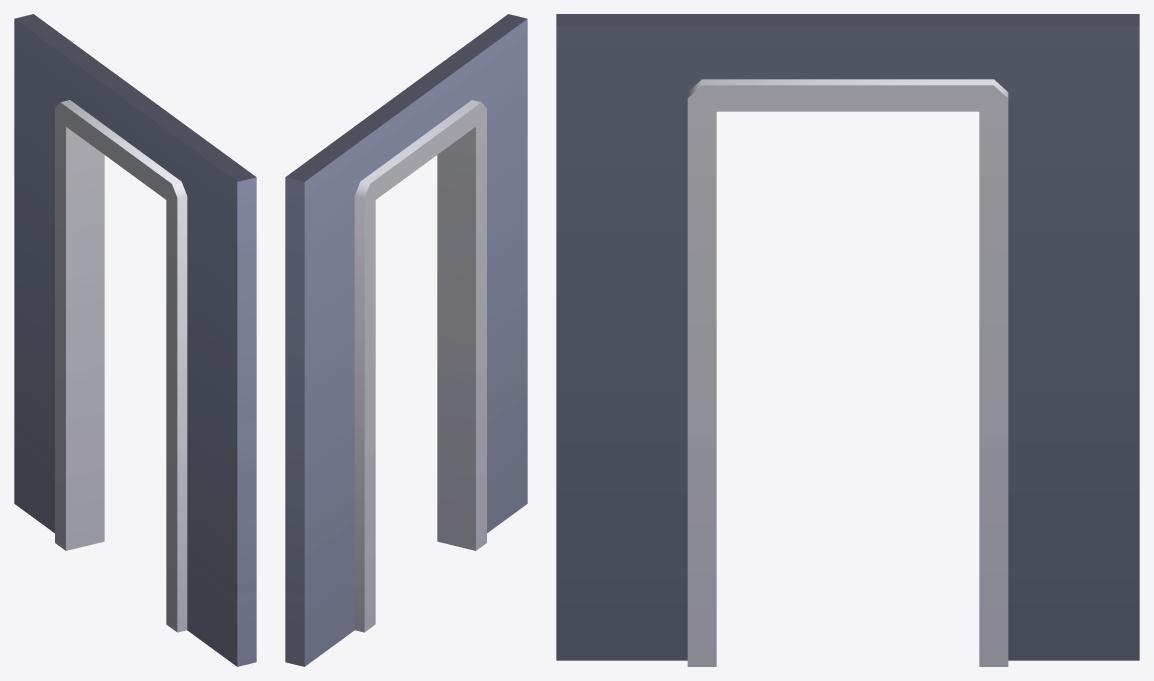
The model's file is wall-doorway-square.optimized.glb.
3 renders of one model, left to right at view 1: azimuth 30°, elevation 25°; view 2: azimuth 150°, elevation 25°; view 3: azimuth 270°, elevation 25°, orthographic. The views are drawn at different scales.
Parts seen in each view (by area): view 1: wall-doorway-square; view 2: wall-doorway-square; view 3: wall-doorway-square.
Boxes of the visible parts, x1,y1,x2,y2 form: wall-doorway-square: [14, 14, 256, 666]; wall-doorway-square: [285, 14, 527, 666]; wall-doorway-square: [556, 14, 1139, 666].
Bounding box in the file's own units: 0.2001 × 2.4 × 2.
1 material, 1 textured.
